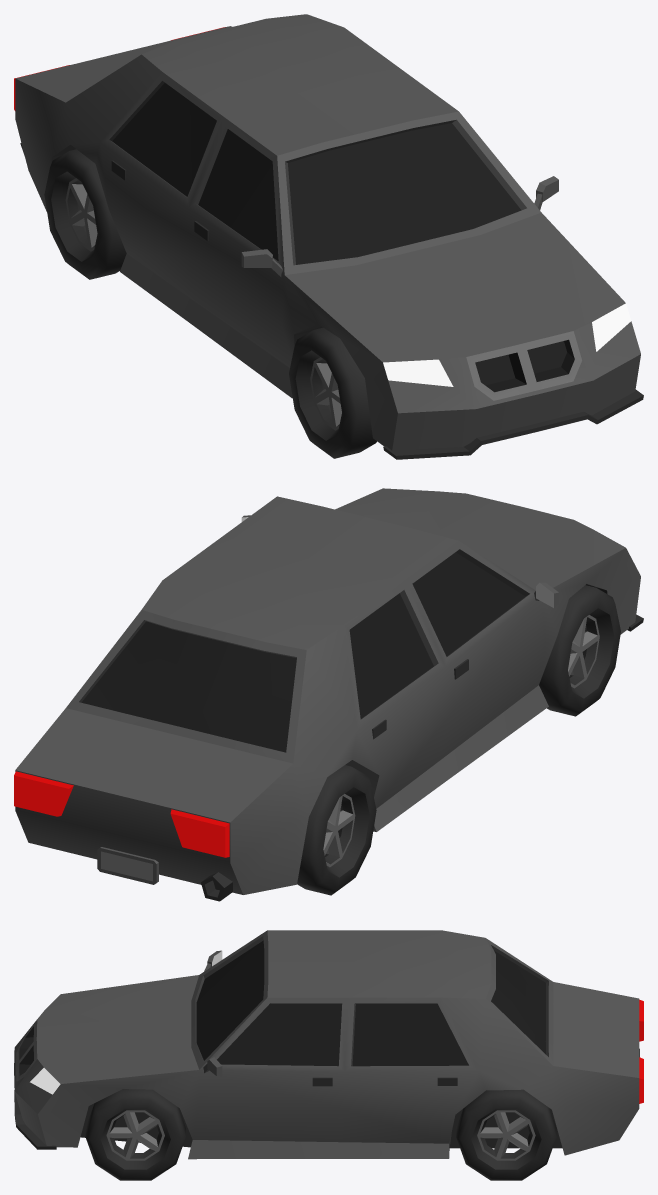
The model's file is gen.glb.
3 renders of one model, top to bottom at view 1: azimuth 30°, elevation 25°; view 2: azimuth 150°, elevation 25°; view 3: azimuth 270°, elevation 25°, orthographic. The views are drawn at different scales.
Visible parts, largest first — view 1: gen, wheels.004, wheels.005; view 2: gen, wheels.004, wheels.005; view 3: gen, wheels.055, wheels.054.
Boxes of the visible parts, x1,y1,x2,y2 form: gen: (14, 14, 643, 459); wheels.004: (289, 327, 376, 458); wheels.005: (44, 149, 126, 279); gen: (14, 488, 643, 901); wheels.004: (539, 585, 620, 716); wheels.005: (297, 765, 376, 895); gen: (14, 930, 643, 1159); wheels.055: (85, 1089, 185, 1180); wheels.054: (456, 1089, 556, 1180).
Bounding box in the file's own units: 2.68 × 1.82 × 6.12.
4 materials, 4 textured.
